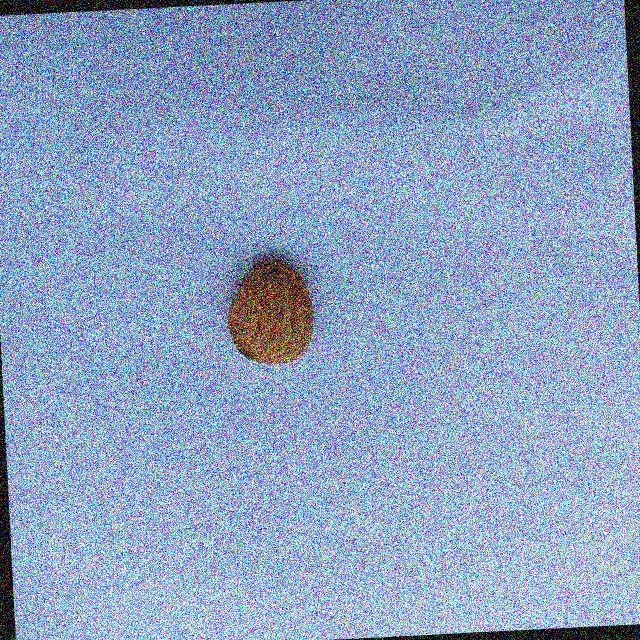grade1: (218, 247, 326, 373)
